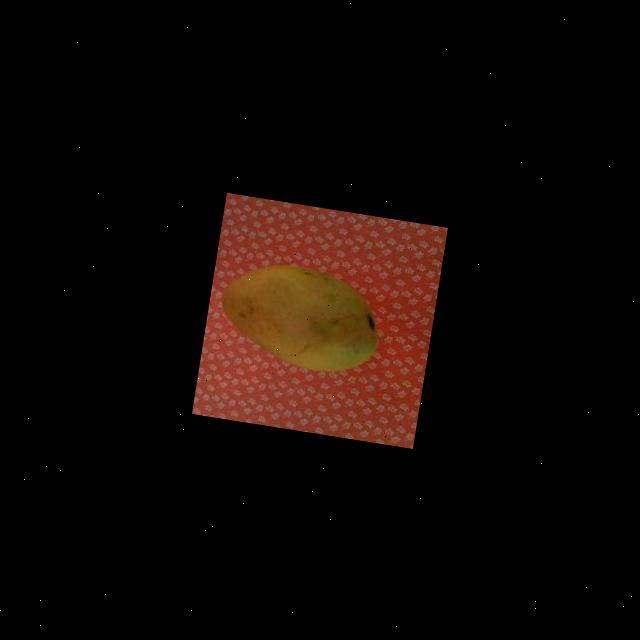Mango: (212, 252, 388, 379)
